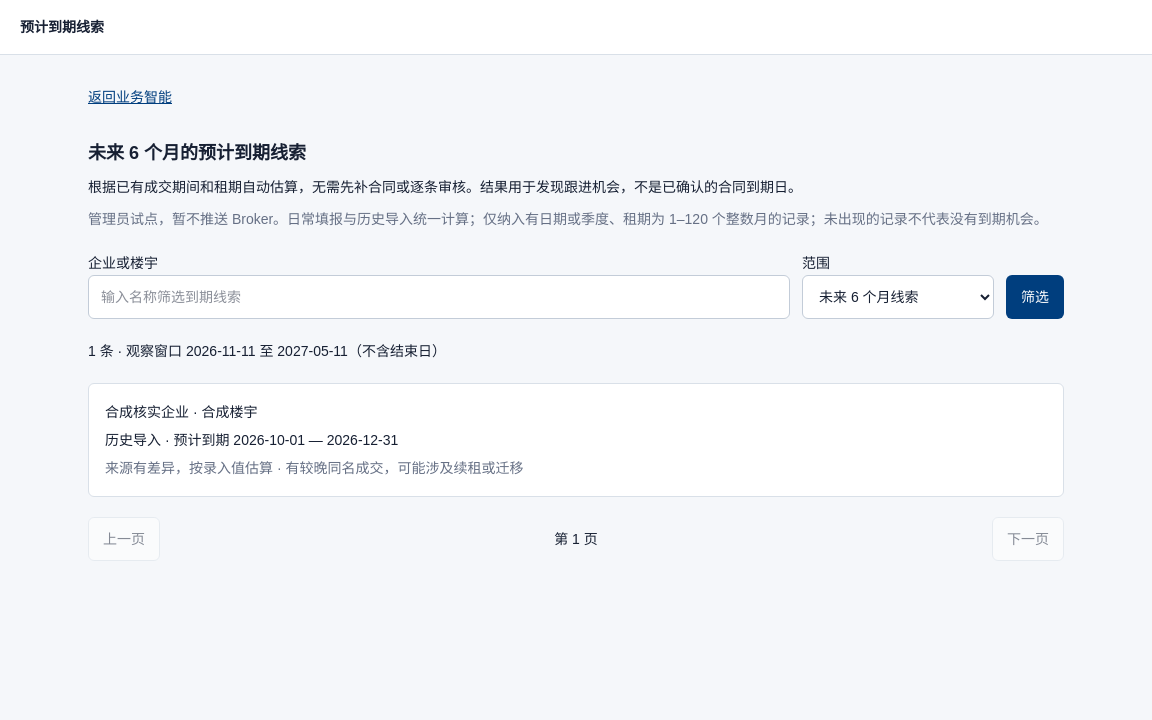
Test case: F6 administrator review workspace › keeps conflicting source estimates available and preserves optional existing notes
Click the button "合成核实企业".
click(147, 412)  # box [89,384,1063,496]
(page scrolled)
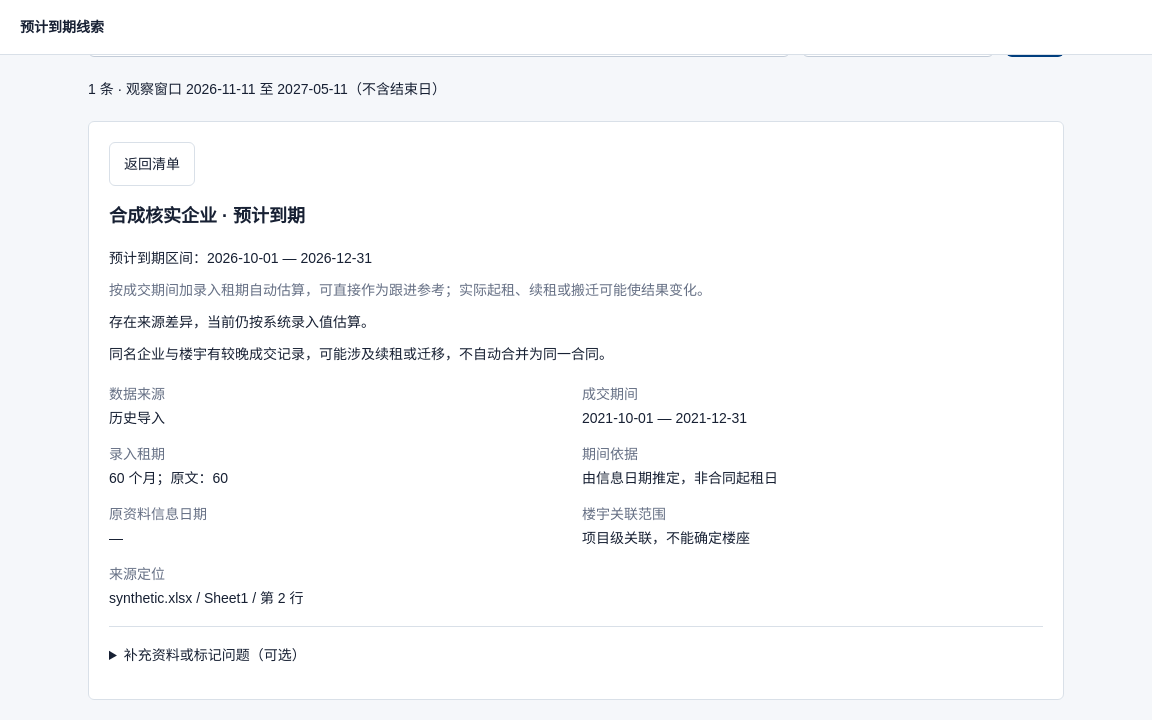
Click the heading "补充资料或标记问题（可选）".
click(215, 655)  # box [124,647,306,663]
(page scrolled)
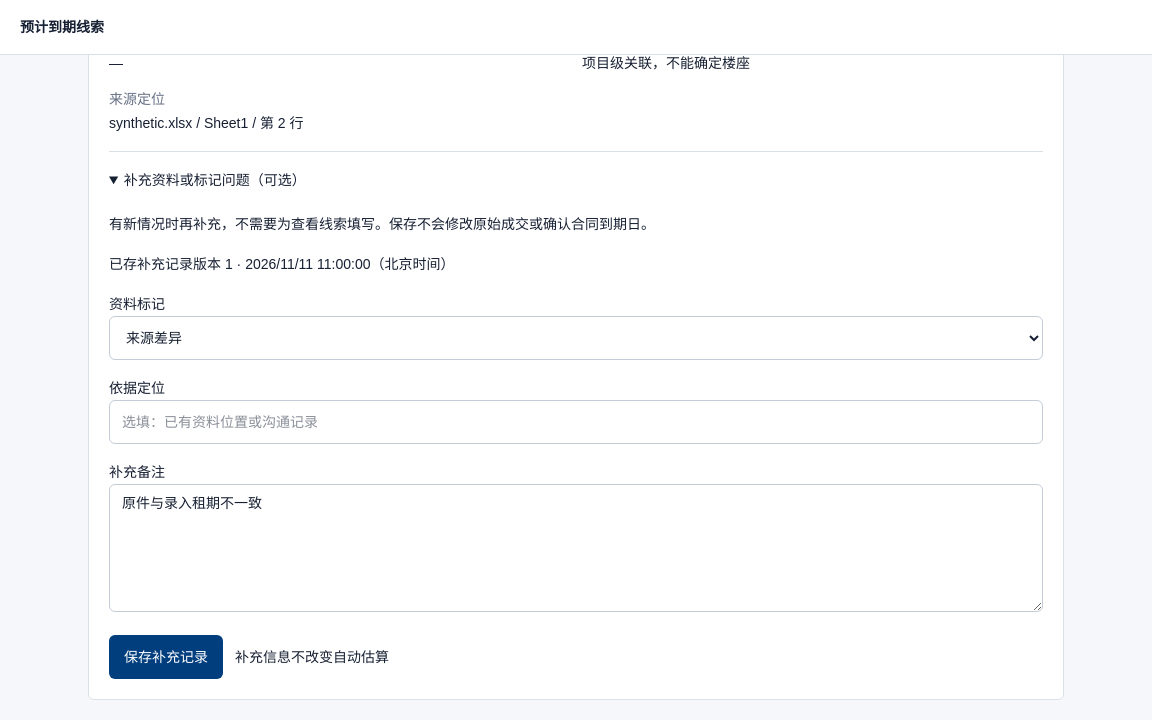
Expected: the text box labelled "补充备注" holds "原件与录入租期不一致", [109,484,1043,612]
